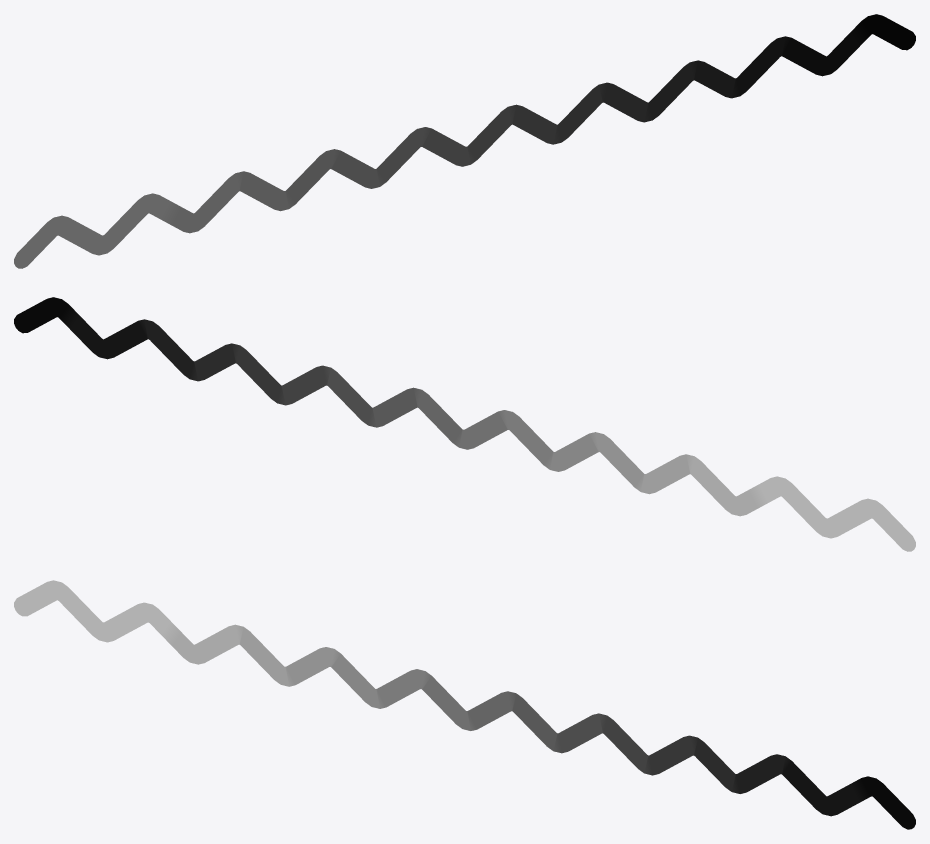
3 views of the same model, one above another, from view 1: azimuth 30°, elevation 25°; view 2: azimuth 150°, elevation 25°; view 3: azimuth 330°, elevation 25° (orthographic).
Parts seen in each view (by area): view 1: Joint_0_Object_0; view 2: Joint_0_Object_0; view 3: Joint_0_Object_0.
Part boxes in pixels (box(x1,y1,x2,y2)): Joint_0_Object_0: box(14, 14, 915, 268); Joint_0_Object_0: box(14, 297, 915, 551); Joint_0_Object_0: box(14, 580, 915, 829).
Bounding box in the file's own units: 1051 × 57.56 × 0.
Materials: 1 (1 with a texture image).
